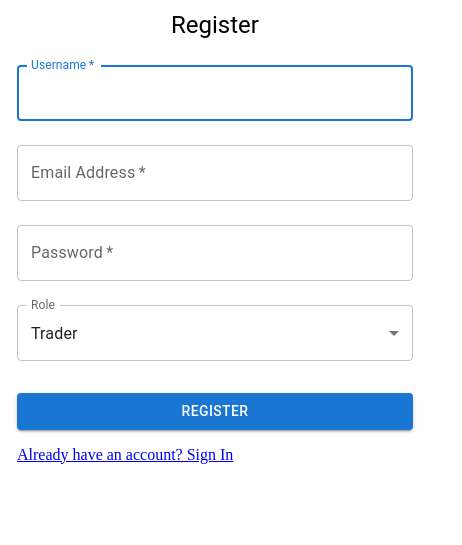
it: RegisterPage Component › displays error message if fields are empty
Click the button "Register" at [215, 411], box [17,393,413,430]
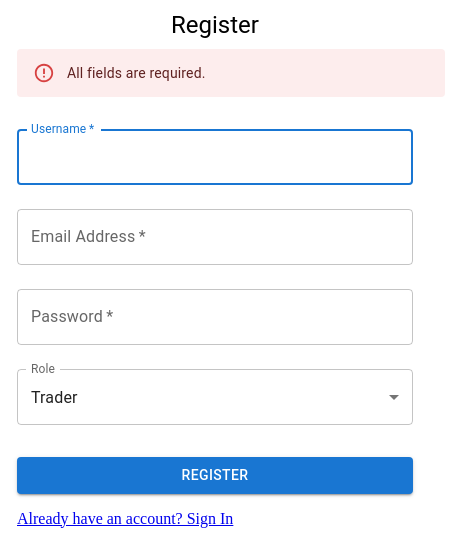
Now the text "All fields are required." is shown, box [67,65,206,81]
